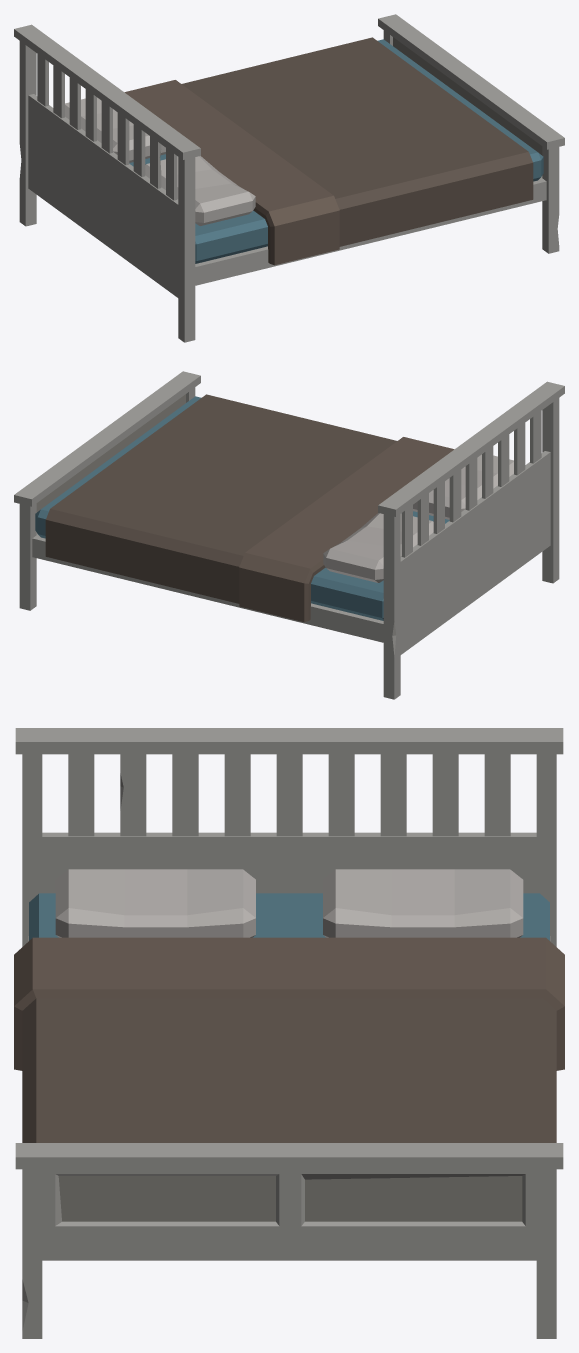
Rendered from SM_Props_Interior_House_Room_Bed_03.fbx.
The picture shows the model from 3 angles, top to bottom: view 1: azimuth 30°, elevation 25°; view 2: azimuth 150°, elevation 25°; view 3: azimuth 270°, elevation 25°; orthographic projection. The views are drawn at different scales.
Parts seen in each view (by area): view 1: SM_Props_Interior_House_Room_Bed_03; view 2: SM_Props_Interior_House_Room_Bed_03; view 3: SM_Props_Interior_House_Room_Bed_03.
Part boxes in pixels (bbox=[...]): SM_Props_Interior_House_Room_Bed_03: bbox=[14, 14, 564, 342]; SM_Props_Interior_House_Room_Bed_03: bbox=[14, 371, 564, 699]; SM_Props_Interior_House_Room_Bed_03: bbox=[14, 728, 564, 1338].
Size of the model in its own units: 214 by 103 by 165.
